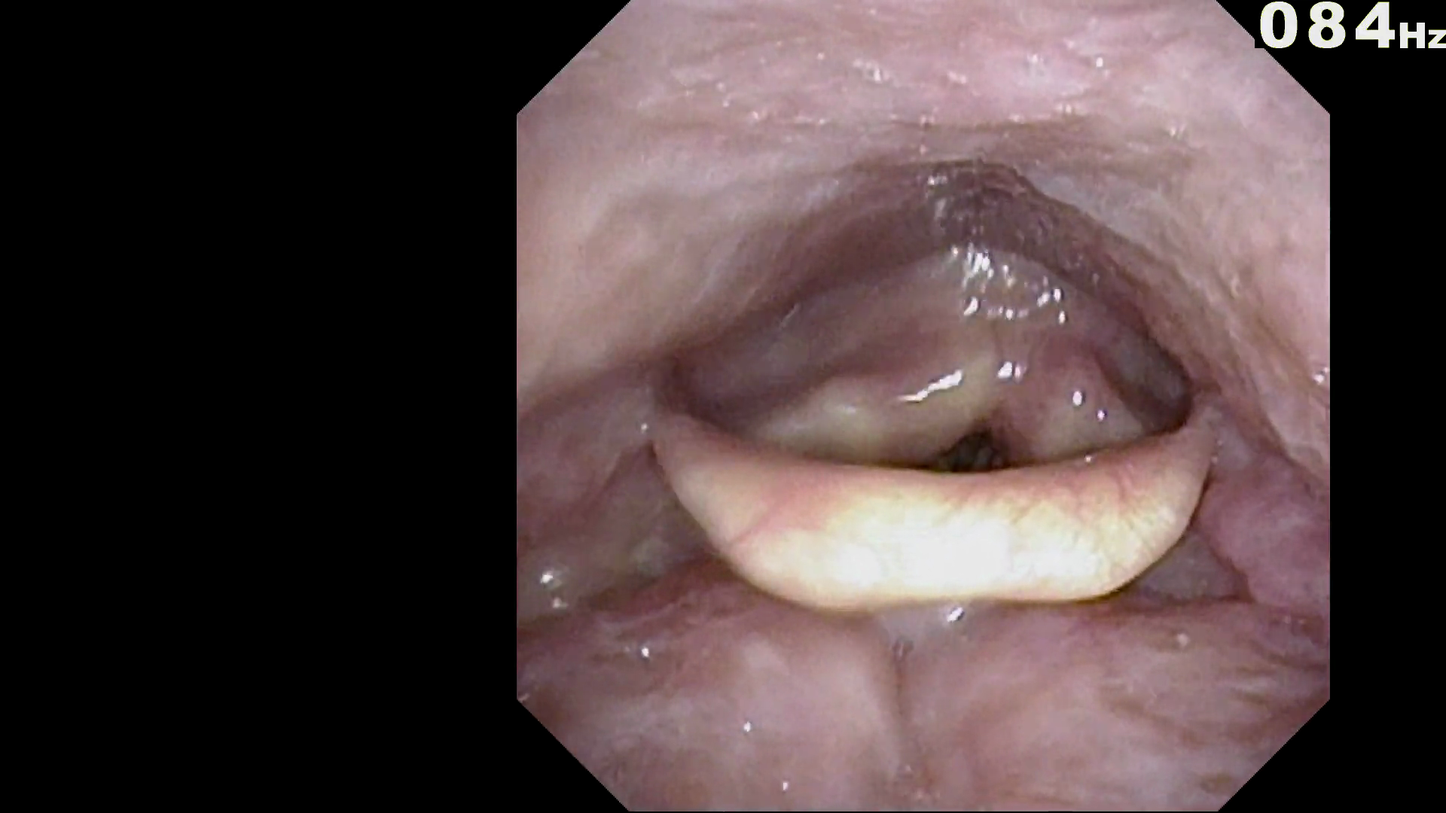epiglottis: (632, 350, 1229, 645)
trachea: (932, 404, 1016, 495)
